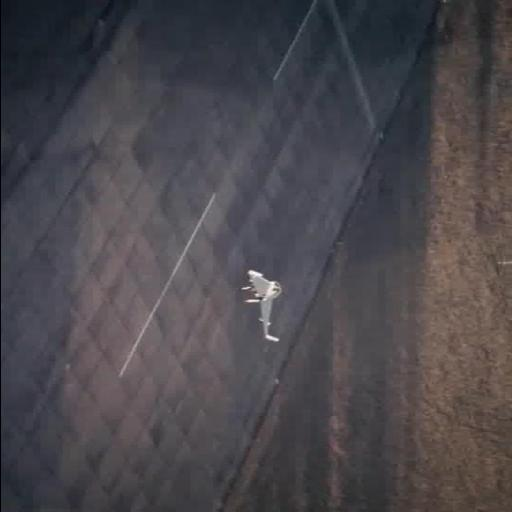uav: (220, 264, 290, 344)
